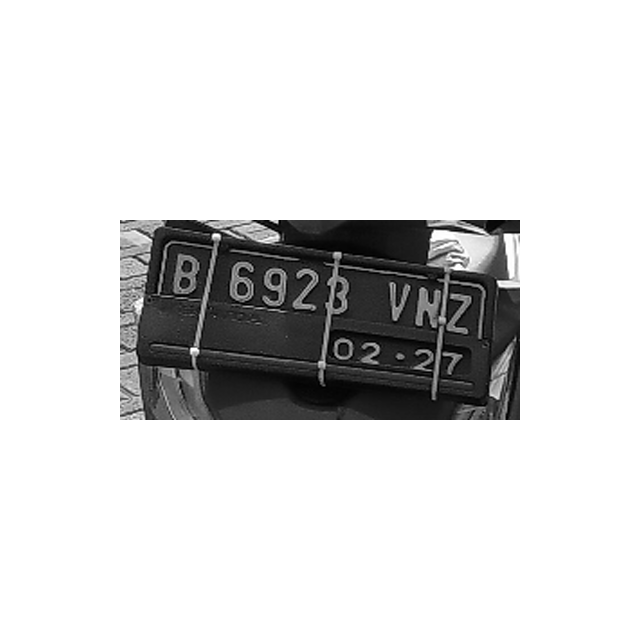contain: (289, 261, 326, 315), (259, 264, 291, 314), (228, 259, 259, 309), (169, 250, 199, 298), (324, 268, 354, 316), (416, 281, 444, 330), (447, 289, 473, 335), (387, 276, 411, 324)
